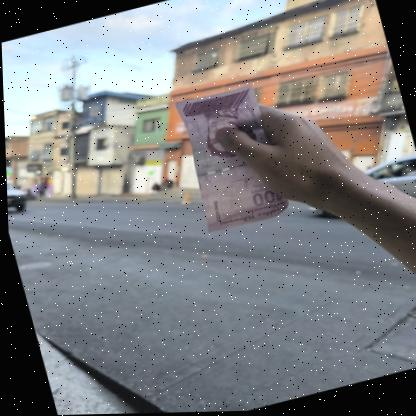one_hundred-front-vef: (172, 82, 288, 237)
